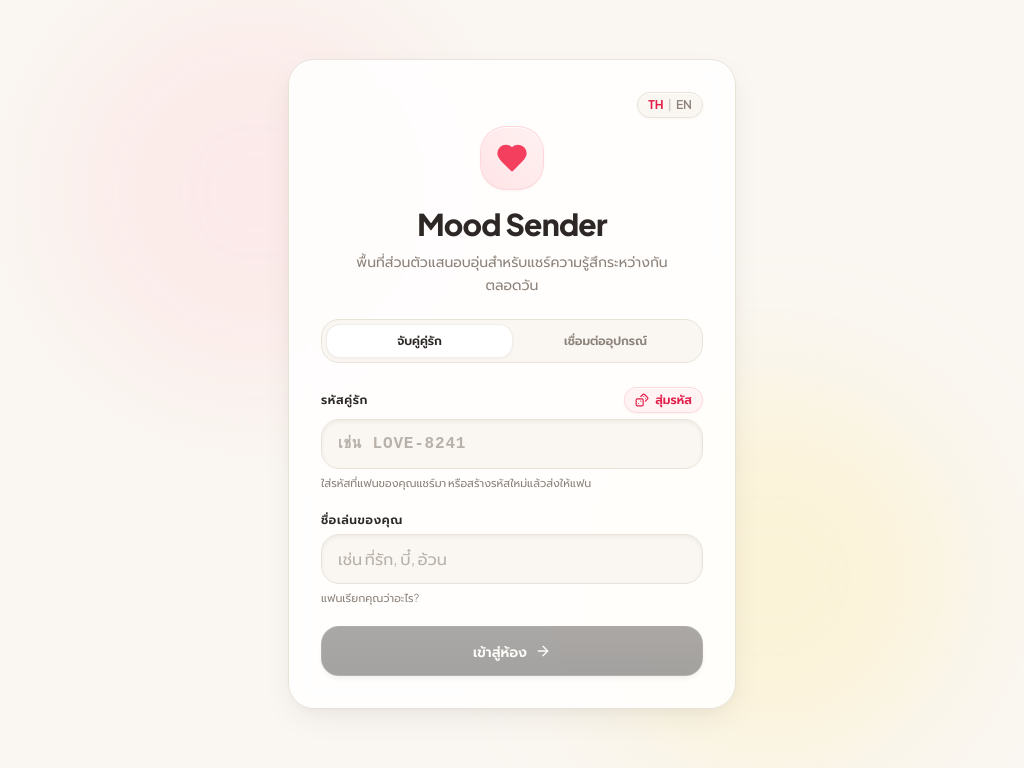
Frontend UI Components › PairModal Component › supports English language switching in PairModal
The width and height of the screenshot is (1024, 768).
Click the button with aria-label "Toggle language": (670, 105) [637, 92, 703, 118]
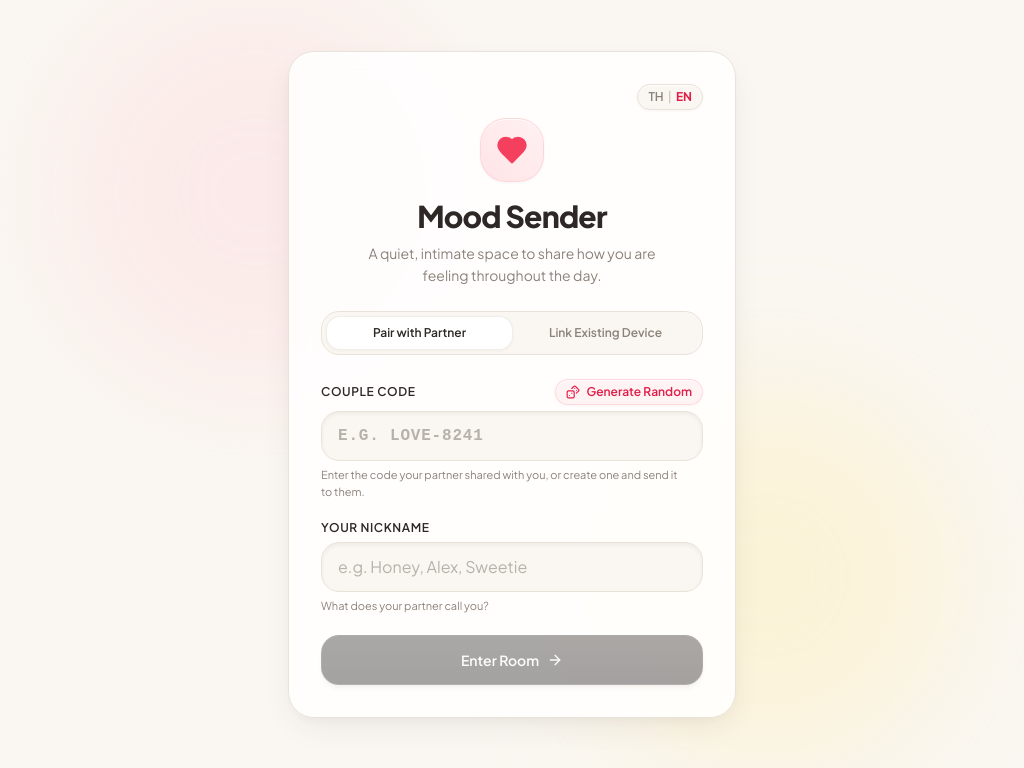
Expected: the field labelled "Couple Code" is shown, [321, 411, 703, 461]
Expected: the text "Generate Random" is shown, [586, 384, 692, 400]
Expected: the text "Enter Room" is shown, [461, 650, 539, 670]
